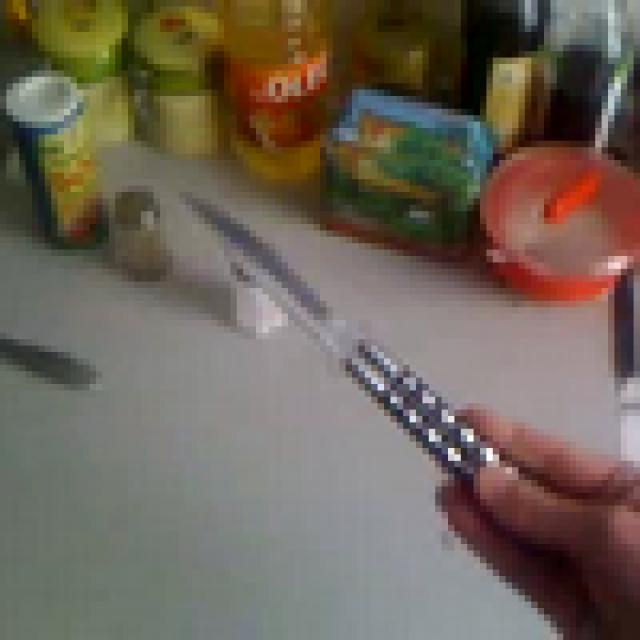Weapons: (182, 190, 502, 492)
